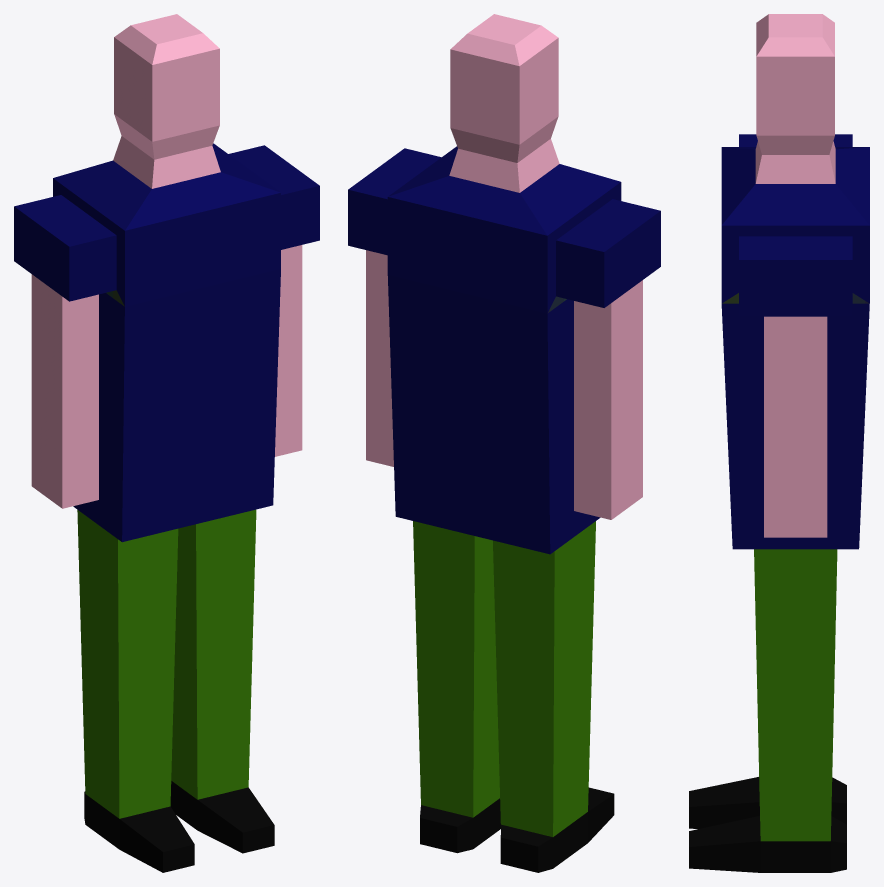
The model's file is player.glb.
The picture shows the model from 3 angles, left to right: view 1: azimuth 30°, elevation 25°; view 2: azimuth 150°, elevation 25°; view 3: azimuth 270°, elevation 25°; orthographic projection. The views are drawn at different scales.
Parts seen in each view (by area): view 1: Cube; view 2: Cube; view 3: Cube.
Part boxes in pixels (<box>): Cube: <box>14,14,319,872</box>; Cube: <box>348,14,660,872</box>; Cube: <box>689,14,869,872</box>.
Size of the model in its own units: 5.44 by 16.43 by 3.3.
1 material, 1 textured.
